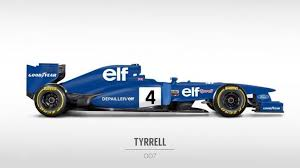f1_car: (20, 57, 290, 126)
